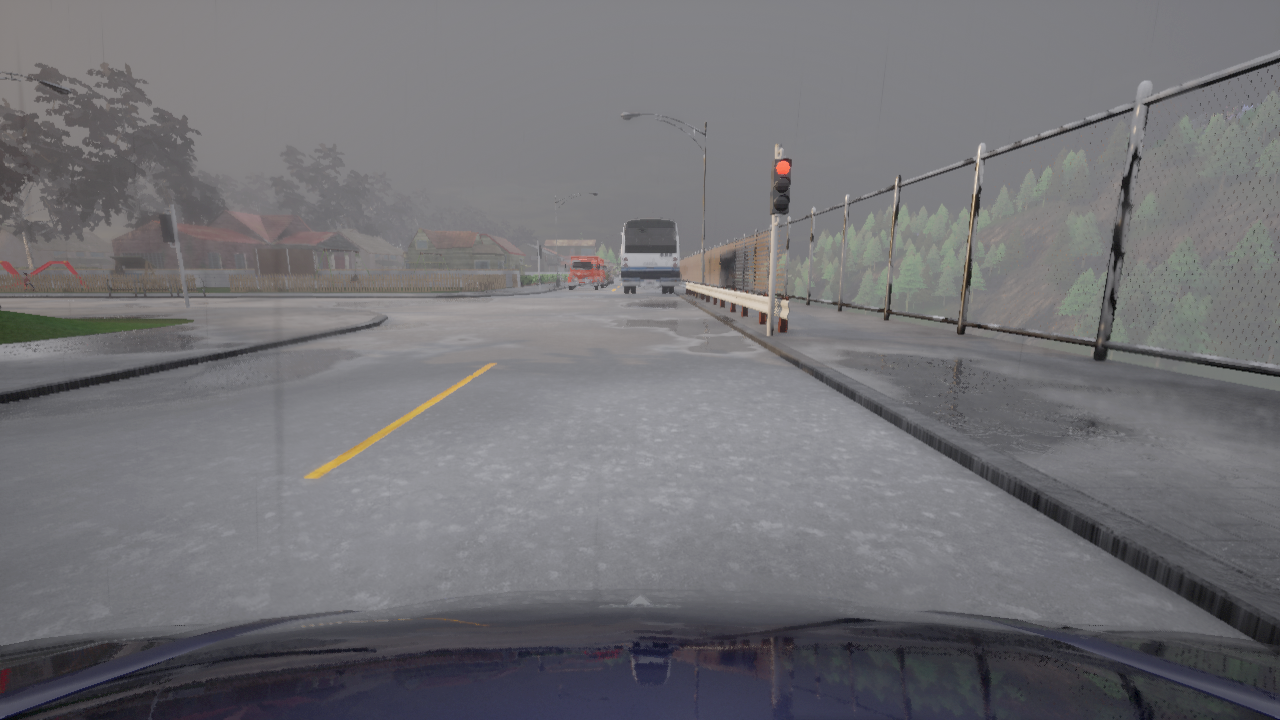cyclist: (0, 588, 1279, 719), (617, 218, 678, 292), (563, 255, 604, 290), (603, 265, 608, 285), (608, 271, 612, 284)
pedestrian: (22, 272, 36, 294)
